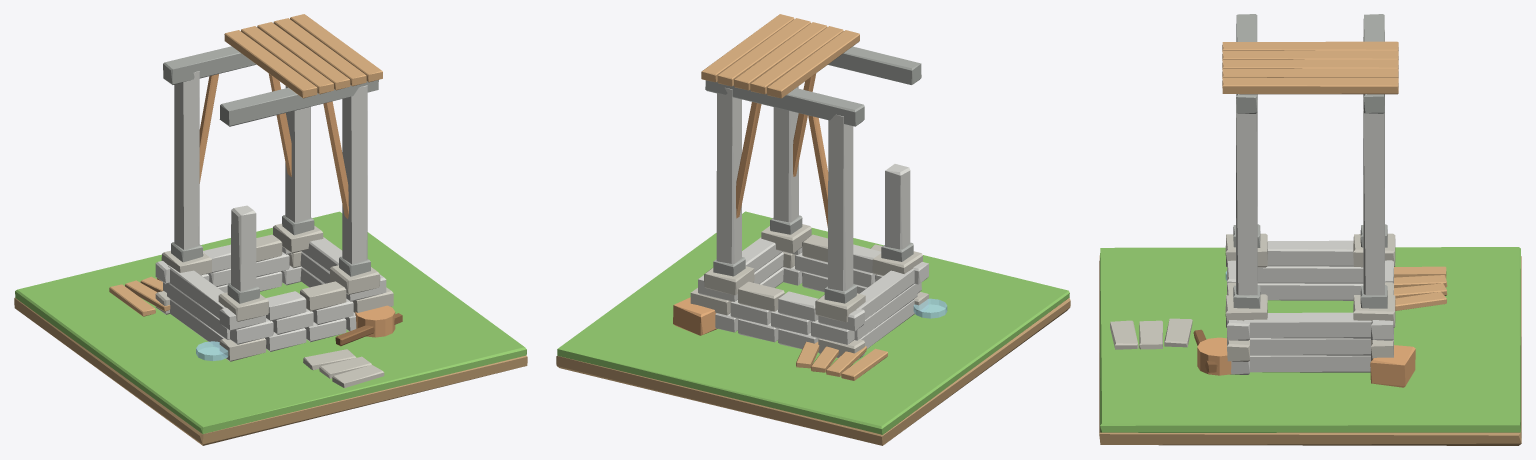
The model's file is tower_l04_damaged_LOD1.glb.
3 views of the same model, side by side, from view 1: azimuth 30°, elevation 25°; view 2: azimuth 150°, elevation 25°; view 3: azimuth 270°, elevation 25° (orthographic). The views are drawn at different scales.
Parts seen in each view (by area): view 1: tower_l04_grass_tile_tower_l04_damaged_LOD1_tmp, tower_l04_earth_tile_tower_l04_damaged_LOD1_tmp, post_-0.61_0.54_tower_l04_damaged_LOD1_tmp, post_0.61_-0.54_tower_l04_damaged_LOD1_tmp, deck_bearer_-0.54_tower_l04_damaged_LOD1_tmp, post_0.61_0.54_tower_l04_damaged_LOD1_tmp, post_-0.61_-0.54_tower_l04_damaged_LOD1_tmp, deck_bearer_0.54_tower_l04_damaged_LOD1_tmp, deck_board_4_tower_l04_damaged_LOD1_tmp, deck_board_6_tower_l04_damaged_LOD1_tmp, deck_board_7_tower_l04_damaged_LOD1_tmp, deck_board_5_tower_l04_damaged_LOD1_tmp (+33 smaller); view 2: tower_l04_grass_tile_tower_l04_damaged_LOD1_tmp, tower_l04_earth_tile_tower_l04_damaged_LOD1_tmp, post_-0.61_0.54_tower_l04_damaged_LOD1_tmp, post_0.61_0.54_tower_l04_damaged_LOD1_tmp, deck_bearer_0.54_tower_l04_damaged_LOD1_tmp, post_0.61_-0.54_tower_l04_damaged_LOD1_tmp, post_-0.61_-0.54_tower_l04_damaged_LOD1_tmp, deck_bearer_-0.54_tower_l04_damaged_LOD1_tmp, deck_board_4_tower_l04_damaged_LOD1_tmp, deck_board_7_tower_l04_damaged_LOD1_tmp, deck_board_5_tower_l04_damaged_LOD1_tmp, deck_board_6_tower_l04_damaged_LOD1_tmp (+28 smaller); view 3: tower_l04_grass_tile_tower_l04_damaged_LOD1_tmp, tower_l04_earth_tile_tower_l04_damaged_LOD1_tmp, post_0.61_0.54_tower_l04_damaged_LOD1_tmp, post_0.61_-0.54_tower_l04_damaged_LOD1_tmp, deck_board_8_tower_l04_damaged_LOD1_tmp, stone_return_2_0.72_tower_l04_damaged_LOD1_tmp, stone_return_2_-0.72_tower_l04_damaged_LOD1_tmp, stone_return_0_0.72_tower_l04_damaged_LOD1_tmp, stone_return_1_0.72_tower_l04_damaged_LOD1_tmp, stone_return_1_-0.72_tower_l04_damaged_LOD1_tmp, stone_return_0_-0.72_tower_l04_damaged_LOD1_tmp, deck_board_7_tower_l04_damaged_LOD1_tmp (+24 smaller).
Boxes of the visible parts, left/top/right/bottom form: tower_l04_grass_tile_tower_l04_damaged_LOD1_tmp: left=15, top=211, right=526, bottom=433; tower_l04_earth_tile_tower_l04_damaged_LOD1_tmp: left=14, top=298, right=527, bottom=445; post_-0.61_0.54_tower_l04_damaged_LOD1_tmp: left=174, top=71, right=199, bottom=249; post_0.61_-0.54_tower_l04_damaged_LOD1_tmp: left=342, top=85, right=367, bottom=264; deck_bearer_-0.54_tower_l04_damaged_LOD1_tmp: left=219, top=80, right=378, bottom=126; post_0.61_0.54_tower_l04_damaged_LOD1_tmp: left=285, top=86, right=310, bottom=222; post_-0.61_-0.54_tower_l04_damaged_LOD1_tmp: left=231, top=205, right=256, bottom=291; deck_bearer_0.54_tower_l04_damaged_LOD1_tmp: left=163, top=46, right=256, bottom=84; deck_board_4_tower_l04_damaged_LOD1_tmp: left=224, top=30, right=317, bottom=98; deck_board_6_tower_l04_damaged_LOD1_tmp: left=257, top=22, right=350, bottom=90; deck_board_7_tower_l04_damaged_LOD1_tmp: left=273, top=18, right=366, bottom=86; deck_board_5_tower_l04_damaged_LOD1_tmp: left=241, top=26, right=333, bottom=94; tower_l04_grass_tile_tower_l04_damaged_LOD1_tmp: left=557, top=211, right=1069, bottom=435; tower_l04_earth_tile_tower_l04_damaged_LOD1_tmp: left=556, top=298, right=1070, bottom=445; post_-0.61_0.54_tower_l04_damaged_LOD1_tmp: left=828, top=114, right=853, bottom=290; post_0.61_0.54_tower_l04_damaged_LOD1_tmp: left=716, top=87, right=741, bottom=263; deck_bearer_0.54_tower_l04_damaged_LOD1_tmp: left=705, top=80, right=864, bottom=126; post_0.61_-0.54_tower_l04_damaged_LOD1_tmp: left=773, top=86, right=798, bottom=222; post_-0.61_-0.54_tower_l04_damaged_LOD1_tmp: left=885, top=164, right=910, bottom=249; deck_bearer_-0.54_tower_l04_damaged_LOD1_tmp: left=828, top=46, right=921, bottom=84; deck_board_4_tower_l04_damaged_LOD1_tmp: left=767, top=30, right=859, bottom=98; deck_board_7_tower_l04_damaged_LOD1_tmp: left=717, top=18, right=810, bottom=86; deck_board_5_tower_l04_damaged_LOD1_tmp: left=750, top=26, right=843, bottom=94; deck_board_6_tower_l04_damaged_LOD1_tmp: left=734, top=22, right=827, bottom=90; tower_l04_grass_tile_tower_l04_damaged_LOD1_tmp: left=1100, top=247, right=1520, bottom=432; tower_l04_earth_tile_tower_l04_damaged_LOD1_tmp: left=1099, top=255, right=1521, bottom=445; post_0.61_0.54_tower_l04_damaged_LOD1_tmp: left=1363, top=94, right=1384, bottom=295; post_0.61_-0.54_tower_l04_damaged_LOD1_tmp: left=1236, top=94, right=1257, bottom=295; deck_board_8_tower_l04_damaged_LOD1_tmp: left=1222, top=77, right=1398, bottom=94; stone_return_2_0.72_tower_l04_damaged_LOD1_tmp: left=1244, top=312, right=1371, bottom=338; stone_return_2_-0.72_tower_l04_damaged_LOD1_tmp: left=1267, top=240, right=1353, bottom=266; stone_return_0_0.72_tower_l04_damaged_LOD1_tmp: left=1250, top=355, right=1370, bottom=372; stone_return_1_0.72_tower_l04_damaged_LOD1_tmp: left=1250, top=338, right=1370, bottom=355; stone_return_1_-0.72_tower_l04_damaged_LOD1_tmp: left=1257, top=266, right=1363, bottom=283; stone_return_0_-0.72_tower_l04_damaged_LOD1_tmp: left=1257, top=283, right=1363, bottom=300; deck_board_7_tower_l04_damaged_LOD1_tmp: left=1222, top=68, right=1398, bottom=78.
Bounding box in the file's own units: 3.6 × 2.93 × 3.58.
